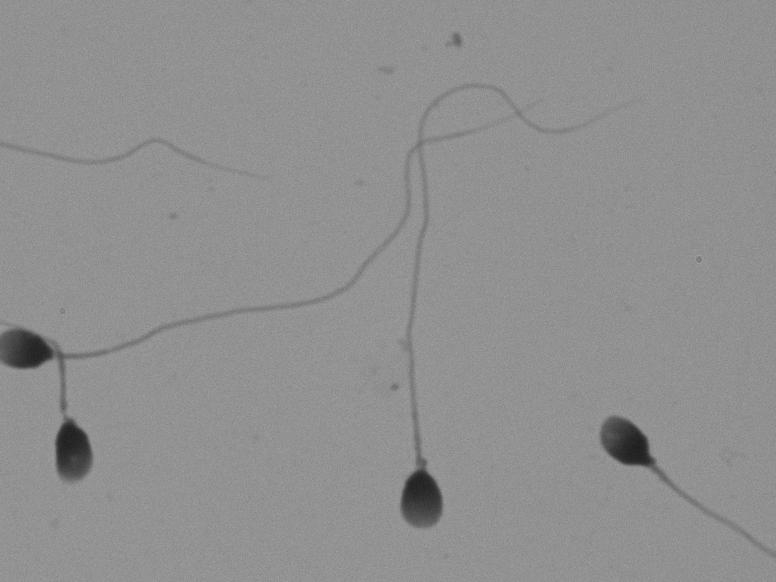Abnormal: (585, 365, 743, 539), (13, 368, 152, 508)
Normal: (360, 58, 565, 553)
